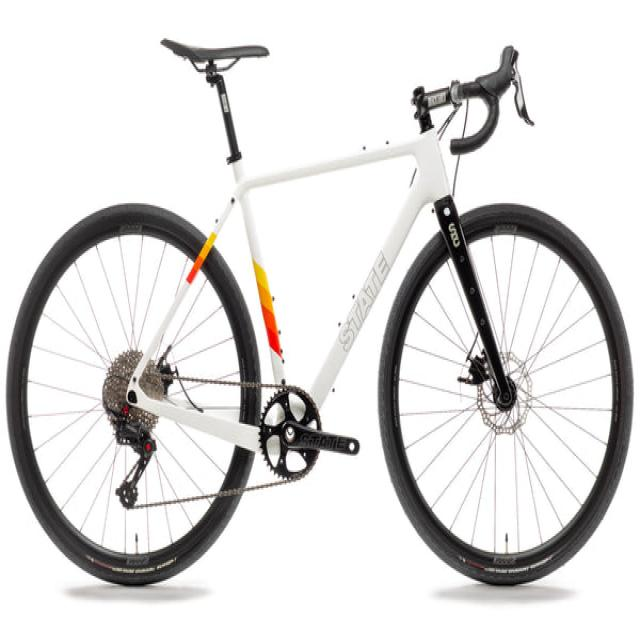road-bike: (4, 38, 634, 590)
